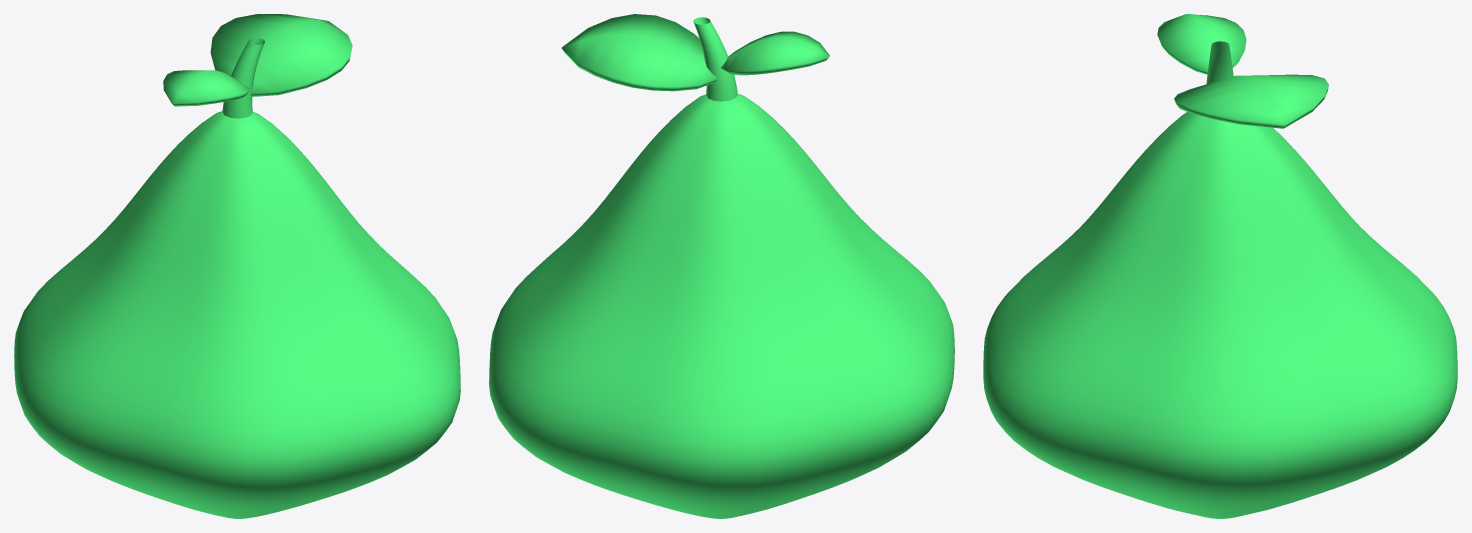
Rendered from Endurance.fbx.
3 renders of one model, left to right at view 1: azimuth 30°, elevation 25°; view 2: azimuth 150°, elevation 25°; view 3: azimuth 270°, elevation 25°, orthographic. The views are drawn at different scales.
Parts seen in each view (by area): view 1: Endurance Fruit; view 2: Endurance Fruit; view 3: Endurance Fruit.
Boxes of the visible parts, x1,y1,x2,y2 form: Endurance Fruit: (14, 14, 460, 518); Endurance Fruit: (489, 14, 954, 518); Endurance Fruit: (983, 14, 1457, 518).
Bounding box in the file's own units: 90 × 100 × 90.
